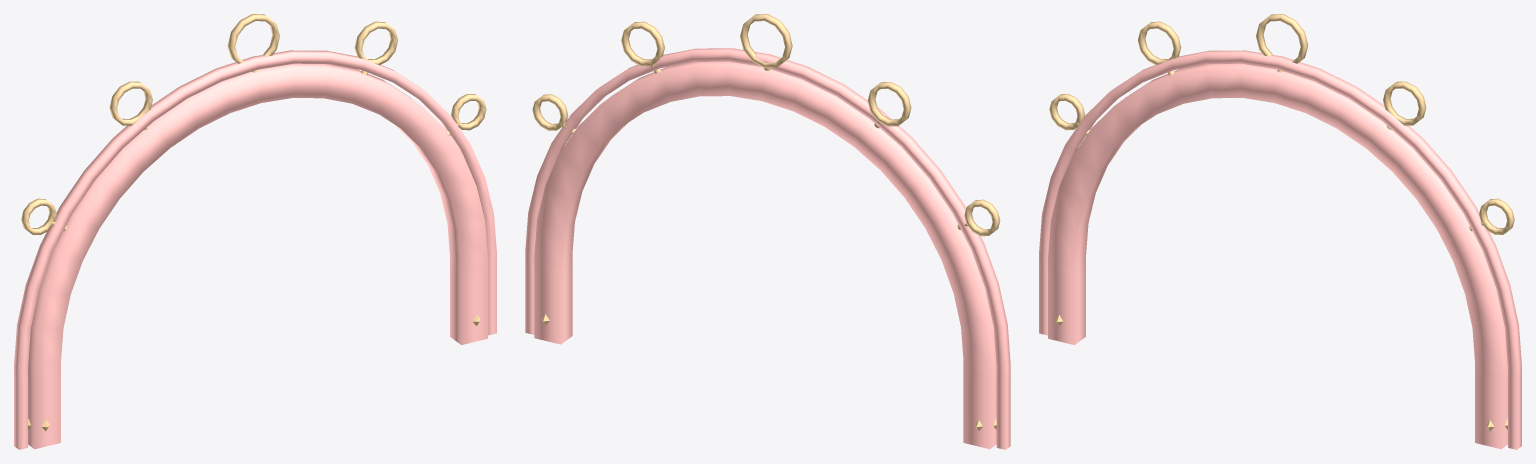
The model's file is finish-portal-lod1.glb.
3 views of the same model, side by side, from view 1: azimuth 30°, elevation 25°; view 2: azimuth 150°, elevation 25°; view 3: azimuth 330°, elevation 25° (orthographic).
Parts seen in each view (by area): view 1: finish_frame; view 2: finish_frame; view 3: finish_frame.
Boxes of the visible parts, x1,y1,x2,y2 form: finish_frame: (14,14,496,449); finish_frame: (525,14,1010,449); finish_frame: (1039,14,1521,449).
Bounding box in the file's own units: 17.18 × 12.84 × 1.
